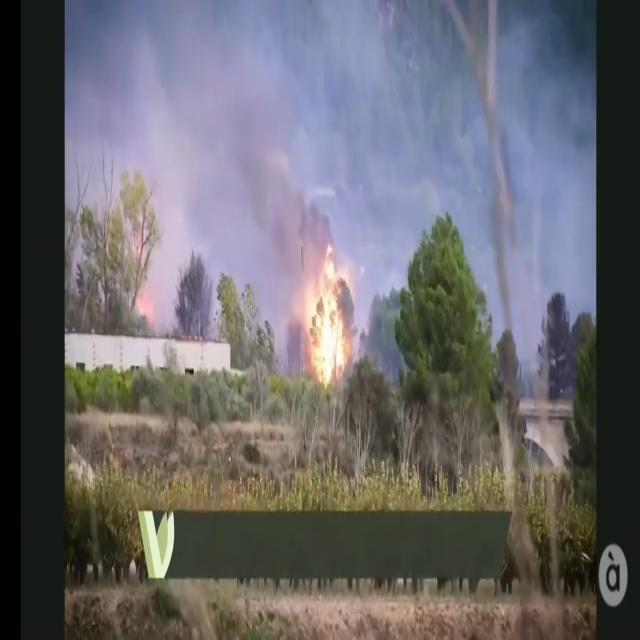Fire: (304, 246, 353, 385)
Smoke: (84, 0, 584, 330)
